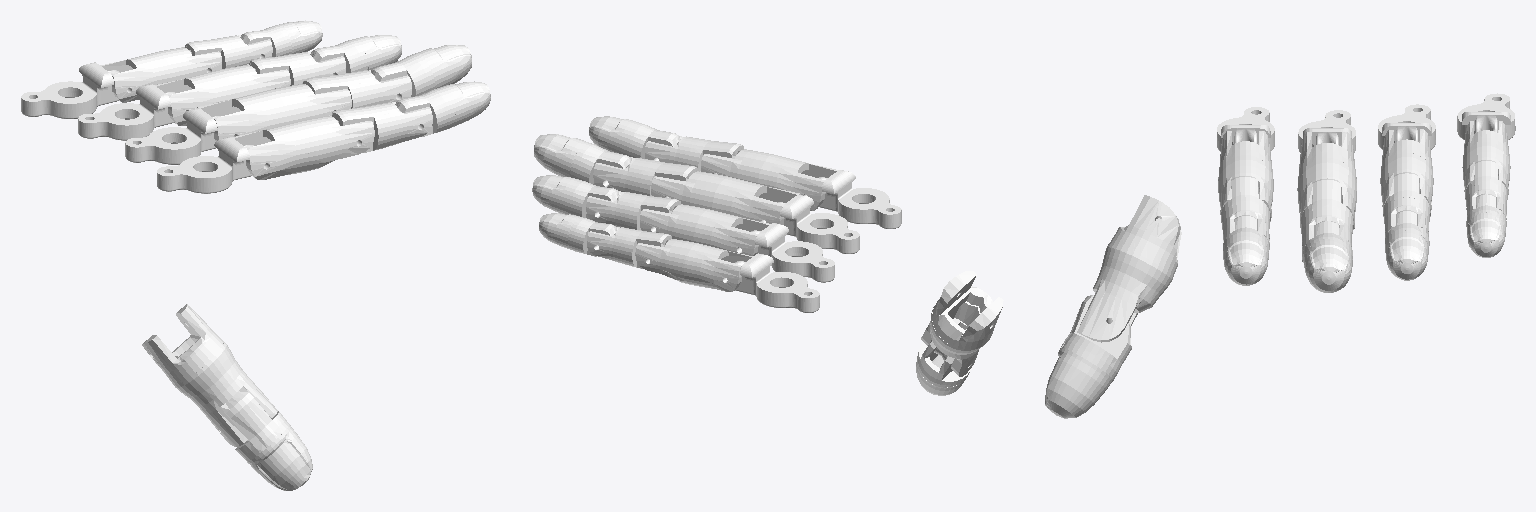
The robot description file, URDF, robot "hek":
<?xml version="1.0"?>
<robot name="hek">

  <link name="world"/>




  <link name="l_palm">
    <visual>
      <origin xyz="0 0 0" rpy="0 0 0"/>
      <geometry>
        <mesh filename="package://cs2r_desc/stl/l_palm.STL"
              scale="0.001 0.001 0.001"
        />
      </geometry>
      <material name="white">
        <color rgba="1 1 1 1"/>
      </material>
    </visual>
  </link>

  <joint name="l_wrist_z" type="revolute">
    <origin xyz="0 0 0" rpy="0 0 0"/>
    <parent link="world"/>
    <child link="l_palm"/>
    <axis xyz="0 0 1"/>
    <limit effort="100" velocity="1.0" lower="-0.65" upper="0.65" />
  </joint>

  <link name="l_thumb_joint">
    <visual>
      <origin xyz="0 0 0" rpy="0 0 0"/>
      <geometry>
        <mesh filename="package://cs2r_desc/stl/l_thumb_joint.STL"
              scale="0.001 0.001 0.001"
        />
      </geometry>
      <material name="white">
        <color rgba="1 1 1 1"/>
      </material>
    </visual>
  </link>

  <joint name="l_thumb_joint_x" type="revolute">
    <origin xyz="0.0417 -0.0291 -0.0057" rpy="0 0 0"/>
    <parent link="l_palm"/>
    <child link="l_thumb_joint"/>
    <axis xyz="1 0 0"/>
    <limit effort="100" velocity="1.0" lower="0.1" upper="2" />
  </joint>

  <link name="l_thumb1">
    <visual>
      <origin xyz="0 0 0" rpy="0 0 0"/>
      <geometry>
        <mesh filename="package://cs2r_desc/stl/Thumb1.STL"
              scale="0.001 0.001 0.001"
        />
      </geometry>
      <material name="white">
        <color rgba="1 1 1 1"/>
      </material>
    </visual>
  </link>

  <joint name="l_thumb" type="revolute">
    <origin xyz="0.0068 -0.019 0" rpy="0.3 -0.0 -1.06"/>
    <parent link="l_thumb_joint"/>
    <child link="l_thumb1"/>
    <axis xyz="0 1 0"/>
    <limit effort="100" velocity="1.0" lower="0" upper="1.4" />
  </joint>

  <link name="l_thumb2">
    <visual>
      <origin xyz="0 0 0" rpy="0 0 0"/>
      <geometry>
        <mesh filename="package://cs2r_desc/stl/Thumb2.STL"
              scale="0.001 0.001 0.001"
        />
      </geometry>
      <material name="white">
        <color rgba="1 1 1 1"/>
      </material>
    </visual>
  </link>

  <joint name="l_thumb1_2" type="revolute">
    <origin xyz="0.021 0 0" rpy="0 0 0"/>
    <parent link="l_thumb1"/>
    <child link="l_thumb2"/>
    <axis xyz="0 1 0"/>
    <mimic joint="l_thumb" multiplier="1"/>
    <limit effort="100" velocity="1.0" lower="0" upper="1.4" />
  </joint>

  <link name="l_index_finger_joint">
    <visual>
      <origin xyz="0 0 0" rpy="0 0 0"/>
      <geometry>
        <mesh filename="package://cs2r_desc/stl/finger_joint.STL"
              scale="0.001 0.001 0.001"
        />
      </geometry>
      <material name="white">
        <color rgba="1 1 1 1"/>
      </material>
    </visual>
  </link>

  <joint name="l_fingers_z" type="revolute">
    <origin xyz="0.06512 -0.0225 0.0051" rpy="0 0 0"/>
    <parent link="l_palm"/>
    <child link="l_index_finger_joint"/>
    <axis xyz="0 0 1"/>
    <limit effort="100" velocity="1.0" lower="-0.25" upper="0.15" />
  </joint>

  <link name="l_index1">
    <visual>
      <origin xyz="0 0 0" rpy="0 0 0"/>
      <geometry>
        <mesh filename="package://cs2r_desc/stl/Index1.STL"
              scale="0.001 0.001 0.001"
        />
      </geometry>
      <material name="white">
        <color rgba="1 1 1 1"/>
      </material>
    </visual>
  </link>

  <joint name="l_index" type="revolute">
    <origin xyz="0.0115 0 -0.0005" rpy="0 0 0"/>
    <parent link="l_index_finger_joint"/>
    <child link="l_index1"/>
    <axis xyz="0 1 0"/>
    <limit effort="100" velocity="1.0" lower="0.0" upper="1.5" />
  </joint>

  <link name="l_index2">
    <visual>
      <origin xyz="0 0 0" rpy="0 0 0"/>
      <geometry>
        <mesh filename="package://cs2r_desc/stl/Index2.STL"
              scale="0.001 0.001 0.001"
        />
      </geometry>
      <material name="white">
        <color rgba="1 1 1 1"/>
      </material>
    </visual>
  </link>

  <joint name="l_index1_2" type="revolute">
    <origin xyz="0.022 0 0" rpy="0 0 0"/>
    <parent link="l_index1"/>
    <child link="l_index2"/>
    <axis xyz="0 1 0"/>
    <mimic joint="l_index" multiplier="1"/>
    <limit effort="100" velocity="1.0" lower="0.0" upper="1.5" />
  </joint>

  <link name="l_index3">
    <visual>
      <origin xyz="0 0 0" rpy="0 0 0"/>
      <geometry>
        <mesh filename="package://cs2r_desc/stl/Index3.STL"
              scale="0.001 0.001 0.001"
        />
      </geometry>
      <material name="white">
        <color rgba="1 1 1 1"/>
      </material>
    </visual>
  </link>

  <joint name="l_index2_3" type="revolute">
    <origin xyz="0.0146 0 0" rpy="0 0 0"/>
    <parent link="l_index2"/>
    <child link="l_index3"/>
    <axis xyz="0 1 0"/>
    <mimic joint="l_index" multiplier="1"/>
    <limit effort="100" velocity="1.0" lower="0.0" upper="1.5" />
  </joint>

  <link name="l_middle_finger_joint">
    <visual>
      <origin xyz="0 0 0" rpy="0 0 0"/>
      <geometry>
        <mesh filename="package://cs2r_desc/stl/finger_joint.STL"
              scale="0.001 0.001 0.001"
        />
      </geometry>
      <material name="white">
        <color rgba="1 1 1 1"/>
      </material>
    </visual>
  </link>

  <joint name="l_midlle_z" type="fixed">
    <origin xyz="0.0665 -0.00733 0.0051" rpy="0 0 0"/>
    <parent link="l_palm"/>
    <child link="l_middle_finger_joint"/>
  </joint>






  <link name="l_middle1">
    <visual>
      <origin xyz="0 0 0" rpy="0 0 0"/>
      <geometry>
        <mesh filename="package://cs2r_desc/stl/Majeure1.STL"
              scale="0.001 0.001 0.001"
        />
      </geometry>
      <material name="white">
        <color rgba="1 1 1 1"/>
      </material>
    </visual>
  </link>

  <joint name="l_middle" type="revolute">
    <origin xyz="0.0115 0 -0.0005" rpy="0 0 0"/>
    <parent link="l_middle_finger_joint"/>
    <child link="l_middle1"/>
    <axis xyz="0 1 0"/>
    <limit effort="100" velocity="1.0" lower="0.0" upper="1.5" />
  </joint>

  <link name="l_middle2">
    <visual>
      <origin xyz="0 0 0" rpy="0 0 0"/>
      <geometry>
        <mesh filename="package://cs2r_desc/stl/Majeure2.STL"
              scale="0.001 0.001 0.001"
        />
      </geometry>
      <material name="white">
        <color rgba="1 1 1 1"/>
      </material>
    </visual>
  </link>

  <joint name="l_middle1_2" type="revolute">
    <origin xyz="0.023 0 0" rpy="0 0 0"/>
    <parent link="l_middle1"/>
    <child link="l_middle2"/>
    <axis xyz="0 1 0"/>
    <mimic joint="l_middle" multiplier="1"/>
    <limit effort="100" velocity="1.0" lower="0.0" upper="1.5" />
  </joint>

  <link name="l_middle3">
    <visual>
      <origin xyz="0 0 0" rpy="0 0 0"/>
      <geometry>
        <mesh filename="package://cs2r_desc/stl/Majeure3.STL"
              scale="0.001 0.001 0.001"
        />
      </geometry>
      <material name="white">
        <color rgba="1 1 1 1"/>
      </material>
    </visual>
  </link>

  <joint name="l_middle2_3" type="revolute">
    <origin xyz="0.0155 0 0" rpy="0 0 0"/>
    <parent link="l_middle2"/>
    <child link="l_middle3"/>
    <axis xyz="0 1 0"/>
    <mimic joint="l_middle" multiplier="1"/>
    <limit effort="100" velocity="1.0" lower="0.0" upper="1.5" />
  </joint>



  <link name="l_ring_finger_joint">
    <visual>
      <origin xyz="0 0 0" rpy="0 0 0"/>
      <geometry>
        <mesh filename="package://cs2r_desc/stl/finger_joint.STL"
              scale="0.001 0.001 0.001"
        />
      </geometry>
      <material name="white">
        <color rgba="1 1 1 1"/>
      </material>
    </visual>
  </link>

  <joint name="l_ring_z" type="revolute">
    <origin xyz="0.064 0.00747 0.0051" rpy="0 0 0"/>
    <parent link="l_palm"/>
    <child link="l_ring_finger_joint"/>
    <axis xyz="0 0 1"/>
    <mimic joint="l_fingers_z" multiplier="-1"/>
    <limit effort="100" velocity="1.0" lower="-0.4" upper="0.2" />
  </joint>



    <link name="l_ring1">
    <visual>
      <origin xyz="0 0 0" rpy="0 0 0"/>
      <geometry>
        <mesh filename="package://cs2r_desc/stl/RingFinger1.STL"
              scale="0.001 0.001 0.001"
        />
      </geometry>
      <material name="white">
        <color rgba="1 1 1 1"/>
      </material>
    </visual>
  </link>

  <joint name="l_ring" type="revolute">
    <origin xyz="0.0115 0 -0.0005" rpy="0 0 0"/>
    <parent link="l_ring_finger_joint"/>
    <child link="l_ring1"/>
    <axis xyz="0 1 0"/>
    <limit effort="100" velocity="1.0" lower="0.0" upper="1.5" />
  </joint>

  <link name="l_ring2">
    <visual>
      <origin xyz="0 0 0" rpy="0 0 0"/>
      <geometry>
        <mesh filename="package://cs2r_desc/stl/RingFinger2.STL"
              scale="0.001 0.001 0.001"
        />
      </geometry>
      <material name="white">
        <color rgba="1 1 1 1"/>
      </material>
    </visual>
  </link>

  <joint name="l_ring1_2" type="revolute">
    <origin xyz="0.021 0 0" rpy="0 0 0"/>
    <parent link="l_ring1"/>
    <child link="l_ring2"/>
    <axis xyz="0 1 0"/>
    <mimic joint="l_ring" multiplier="1"/>
    <limit effort="100" velocity="1.0" lower="0.0" upper="1.5" />
  </joint>

  <link name="l_ring3">
    <visual>
      <origin xyz="0 0 0" rpy="0 0 0"/>
      <geometry>
        <mesh filename="package://cs2r_desc/stl/RingFinger3.STL"
              scale="0.001 0.001 0.001"
        />
      </geometry>
      <material name="white">
        <color rgba="1 1 1 1"/>
      </material>
    </visual>
  </link>

  <joint name="l_ring2_3" type="revolute">
    <origin xyz="0.014 0 0" rpy="0 0 0"/>
    <parent link="l_ring2"/>
    <child link="l_ring3"/>
    <axis xyz="0 1 0"/>
    <mimic joint="l_ring" multiplier="1"/>
    <limit effort="100" velocity="1.0" lower="0.0" upper="1.5" />
  </joint>




  <link name="l_auri_finger_joint">
    <visual>
      <origin xyz="0 0 0" rpy="0 0 0"/>
      <geometry>
        <mesh filename="package://cs2r_desc/stl/finger_joint.STL"
              scale="0.001 0.001 0.001"
        />
      </geometry>
      <material name="white">
        <color rgba="1 1 1 1"/>
      </material>
    </visual>
  </link>

  <joint name="l_auri_z" type="revolute">
    <origin xyz="0.05918 0.02225 0.0051" rpy="0 0 0"/>
    <parent link="l_palm"/>
    <child link="l_auri_finger_joint"/>
    <axis xyz="0 0 1"/>
    <mimic joint="l_fingers_z" multiplier="-1.5"/>
    <limit effort="100" velocity="1.0" lower="-0.4" upper="0.2" />
  </joint>


  <link name="l_auri1">
    <visual>
      <origin xyz="0 0 0" rpy="0 0 0"/>
      <geometry>
        <mesh filename="package://cs2r_desc/stl/Auriculaire1.STL"
              scale="0.001 0.001 0.001"
        />
      </geometry>
      <material name="white">
        <color rgba="1 1 1 1"/>
      </material>
    </visual>
  </link>

  <joint name="l_auri" type="revolute">
    <origin xyz="0.0115 0 -0.0005" rpy="0 0 0"/>
    <parent link="l_auri_finger_joint"/>
    <child link="l_auri1"/>
    <axis xyz="0 1 0"/>
    <limit effort="100" velocity="1.0" lower="0.0" upper="1.5" />
  </joint>

  <link name="l_auri2">
    <visual>
      <origin xyz="0 0 0" rpy="0 0 0"/>
      <geometry>
        <mesh filename="package://cs2r_desc/stl/Auriculaire2.STL"
              scale="0.001 0.001 0.001"
        />
      </geometry>
      <material name="white">
        <color rgba="1 1 1 1"/>
      </material>
    </visual>
  </link>

  <joint name="l_auri1_2" type="revolute">
    <origin xyz="0.019 0 0" rpy="0 0 0"/>
    <parent link="l_auri1"/>
    <child link="l_auri2"/>
    <axis xyz="0 1 0"/>
    <mimic joint="l_auri" multiplier="1"/>
    <limit effort="100" velocity="1.0" lower="0.0" upper="1.5" />
  </joint>

  <link name="l_auri3">
    <visual>
      <origin xyz="0 0 0" rpy="0 0 0"/>
      <geometry>
        <mesh filename="package://cs2r_desc/stl/Auriculaire3.STL"
              scale="0.001 0.001 0.001"
        />
      </geometry>
      <material name="white">
        <color rgba="1 1 1 1"/>
      </material>
    </visual>
  </link>

  <joint name="l_auri2_3" type="revolute">
    <origin xyz="0.0125 0 0" rpy="0 0 0"/>
    <parent link="l_auri2"/>
    <child link="l_auri3"/>
    <axis xyz="0 1 0"/>
    <mimic joint="l_auri" multiplier="1"/>
    <limit effort="100" velocity="1.0" lower="0.0" upper="1.5" />
  </joint>








</robot>

--- Facts derived from the render (not from the file) ---
The picture shows the robot from 3 angles, left to right: view 1: azimuth 30°, elevation 25°; view 2: azimuth 150°, elevation 25°; view 3: azimuth 270°, elevation 25°; orthographic projection.
Robot: hek — 21 links, 20 joints (19 revolute, 1 fixed); root link world; default pose: joints at zero except 1 at the middle of their limits (l_thumb_joint_x = 1.05).
Links seen in each view (by area): view 1: l_thumb1, l_index1, l_thumb2, l_middle1, l_ring1, l_auri1, l_auri_finger_joint, l_index_finger_joint, l_ring_finger_joint, l_middle_finger_joint, l_middle3, l_index3 (+6 smaller); view 2: l_thumb1, l_middle1, l_auri1, l_ring1, l_index1, l_auri_finger_joint, l_index_finger_joint, l_middle3, l_middle_finger_joint, l_ring_finger_joint, l_index3, l_middle2 (+6 smaller); view 3: l_thumb1, l_thumb2, l_middle1, l_index1, l_middle3, l_ring1, l_index3, l_ring3, l_middle2, l_auri1, l_auri3, l_index2 (+6 smaller).
Link boxes in pixels (x1,y1,x2,y2): l_thumb1: (142, 304, 277, 446); l_index1: (232, 115, 374, 179); l_thumb2: (220, 387, 312, 490); l_middle1: (197, 84, 351, 140); l_ring1: (155, 64, 290, 125); l_auri1: (100, 47, 221, 102); l_auri_finger_joint: (21, 62, 119, 118); l_index_finger_joint: (157, 137, 253, 193); l_ring_finger_joint: (78, 84, 175, 140); l_middle_finger_joint: (125, 108, 220, 164); l_middle3: (371, 45, 471, 96); l_index3: (395, 81, 490, 136); l_thumb1: (921, 271, 1003, 376); l_middle1: (651, 171, 800, 224); l_auri1: (635, 239, 752, 291); l_ring1: (640, 204, 770, 255); l_index1: (701, 149, 837, 210); l_auri_finger_joint: (735, 253, 819, 312); l_index_finger_joint: (819, 170, 901, 228); l_middle3: (534, 134, 632, 184); l_middle_finger_joint: (777, 195, 859, 253); l_ring_finger_joint: (751, 223, 834, 282); l_index3: (589, 116, 681, 158); l_middle2: (593, 157, 699, 195); l_thumb1: (1077, 195, 1181, 342); l_thumb2: (1045, 295, 1131, 418); l_middle1: (1297, 132, 1356, 229); l_index1: (1218, 131, 1273, 221); l_middle3: (1303, 221, 1352, 292); l_ring1: (1380, 129, 1433, 216); l_index3: (1223, 215, 1269, 285); l_ring3: (1385, 210, 1429, 280); l_middle2: (1301, 178, 1353, 262); l_auri1: (1462, 121, 1510, 199); l_auri3: (1466, 194, 1506, 257); l_index2: (1221, 176, 1269, 246).
Size in the robot's own frame: 0.0944 by 0.0876 by 0.0642 metres.
18 mesh visuals loaded from 17 distinct referenced files (15 binary STL); not drawn: 2 (reference not matched to a file when rendering).
